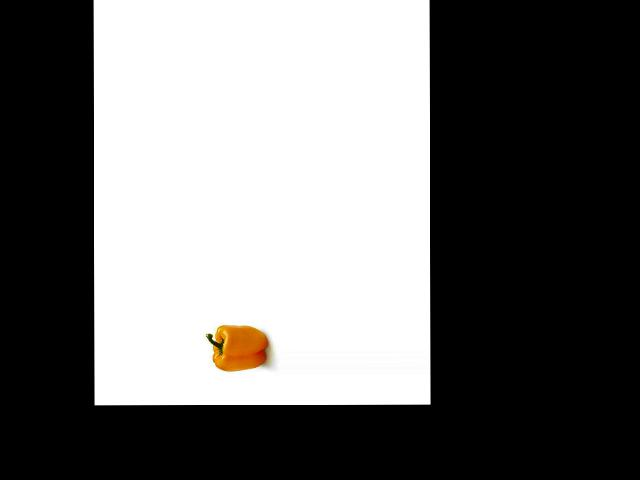bell_pepper: (203, 319, 268, 372)
